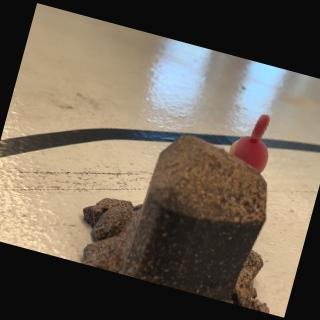teletubby: (229, 114, 269, 173)
